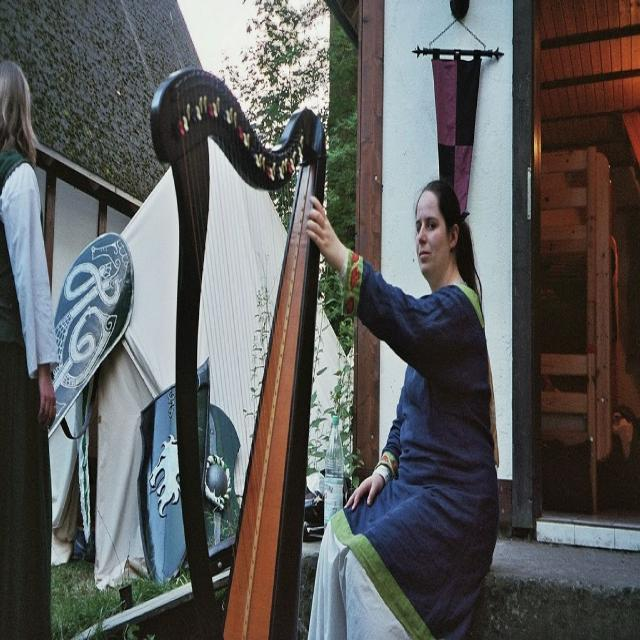harp: (145, 51, 332, 636)
